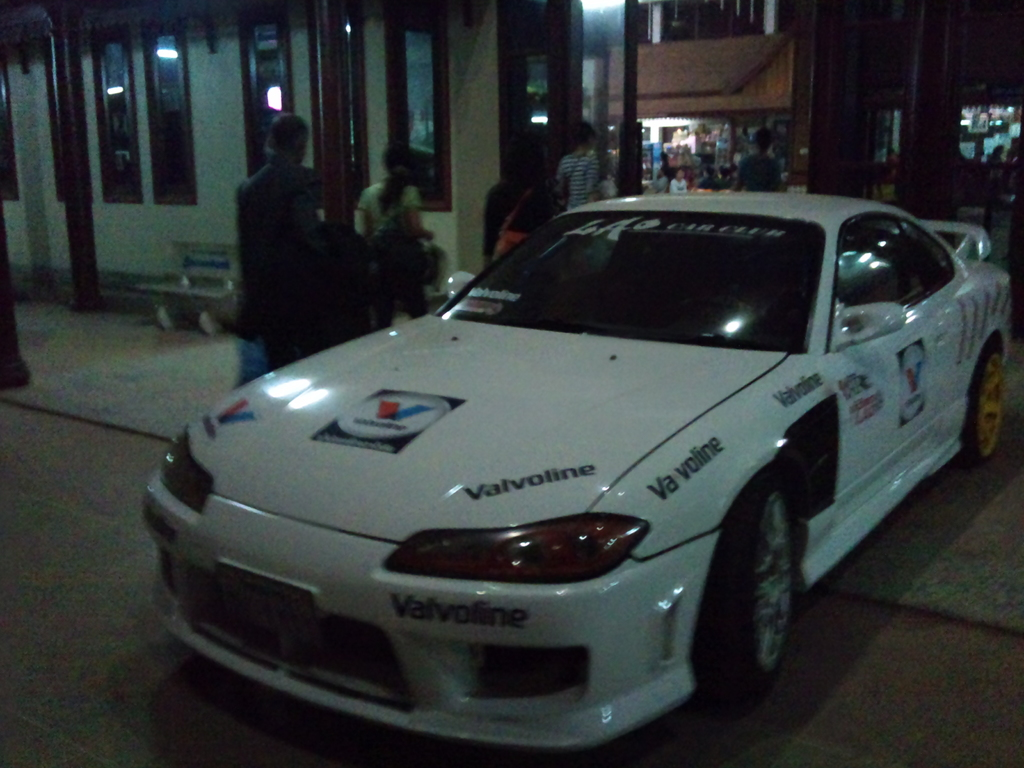Car: (141, 167, 995, 750)
